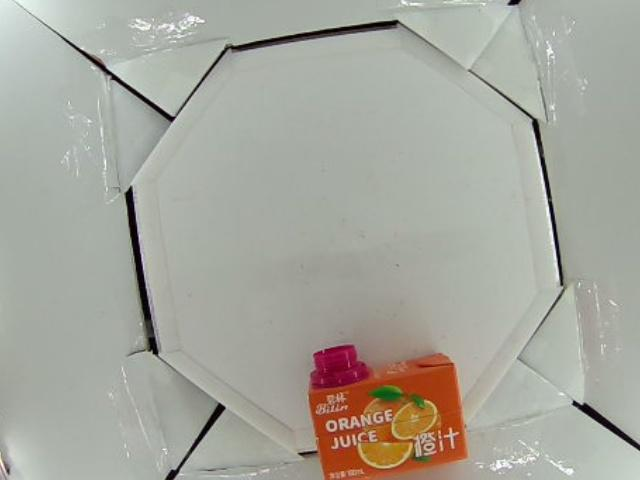Bottle: (308, 345, 472, 478)
